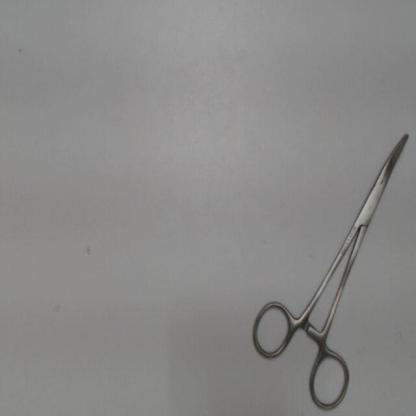Crile Artery Forceps: (248, 124, 414, 415)
